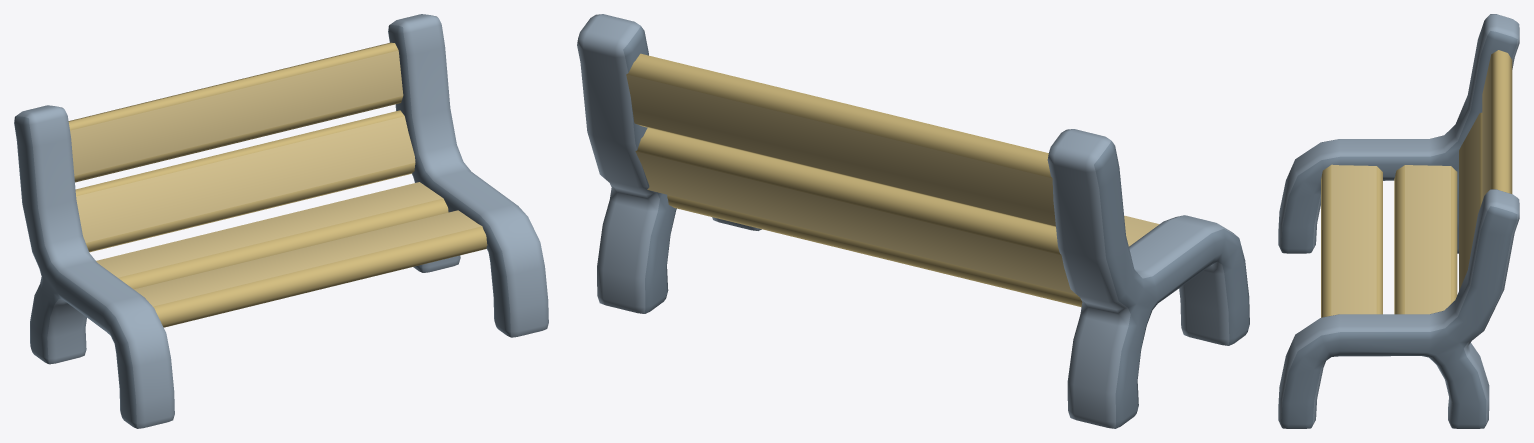
Rendered from Final_bench.fbx.
3 renders of one model, left to right at view 1: azimuth 30°, elevation 25°; view 2: azimuth 150°, elevation 25°; view 3: azimuth 270°, elevation 25°, orthographic. The views are drawn at different scales.
Parts seen in each view (by area): view 1: bench; view 2: bench; view 3: bench.
Part boxes in pixels (box(x1,y1,x2,y2)): bench: box(14, 14, 548, 428); bench: box(577, 14, 1249, 428); bench: box(1278, 14, 1519, 428).
Size of the model in its own units: 138 by 73.55 by 71.76.
